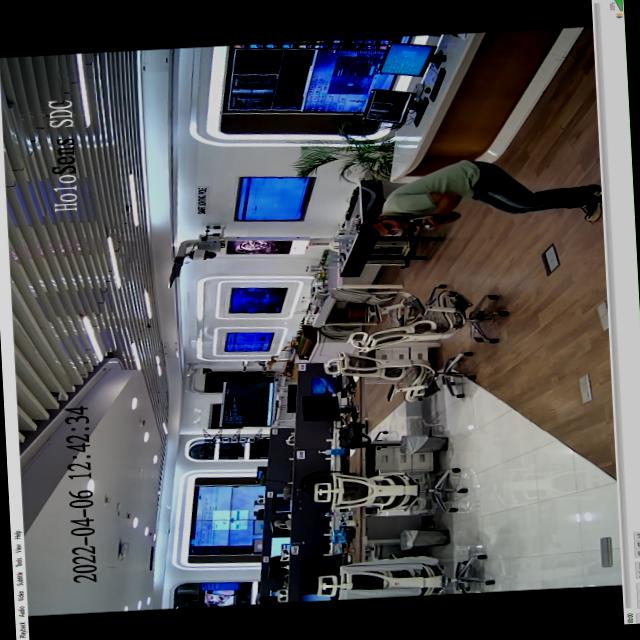long weapon: (404, 208, 450, 235)
